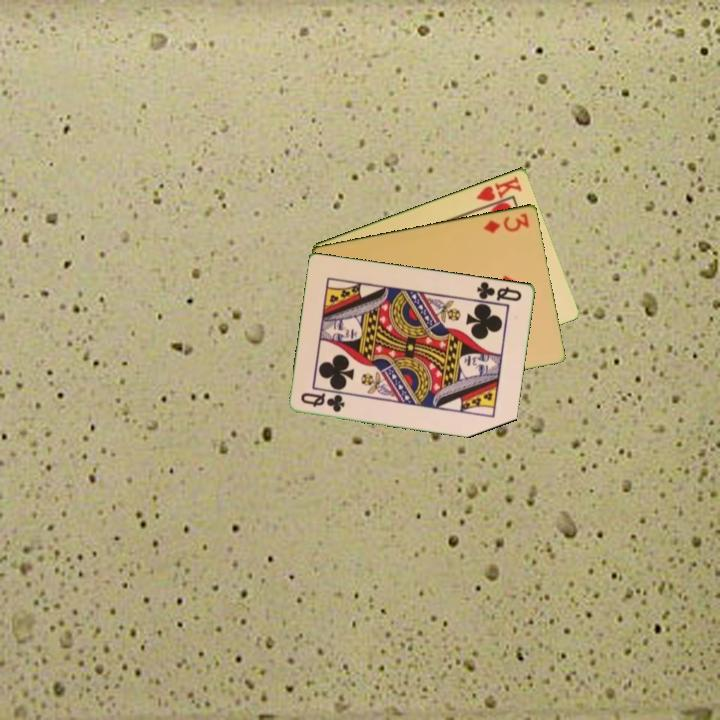3d: (480, 209, 532, 236)
Kh: (473, 172, 525, 211)
Qc: (473, 278, 525, 304), (297, 389, 348, 415)
